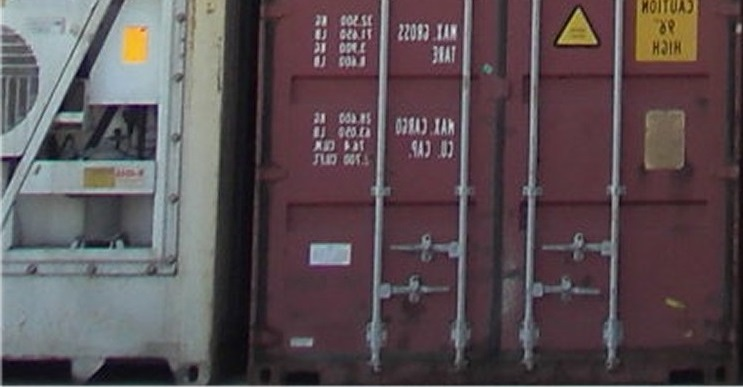container_door: (254, 1, 735, 378)
